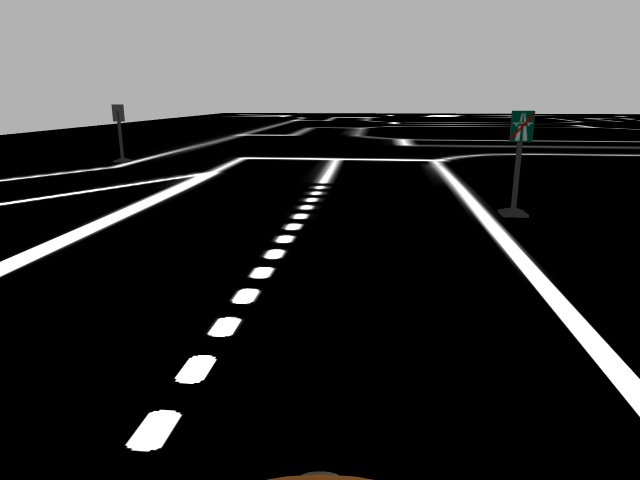leave_highway: (506, 109, 537, 144)
